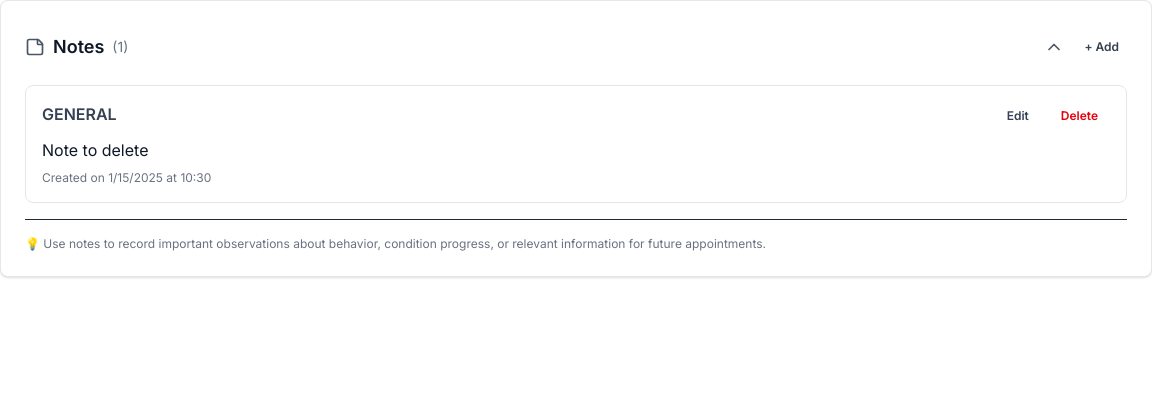
Test: PatientNotesCard › allows deleting a note with confirmation
Expected: the text "Note to delete" is shown, [42,140,148,160]
Note: Click delete button
Click the button "Delete".
click(1079, 116)  # box [1049,102,1110,130]
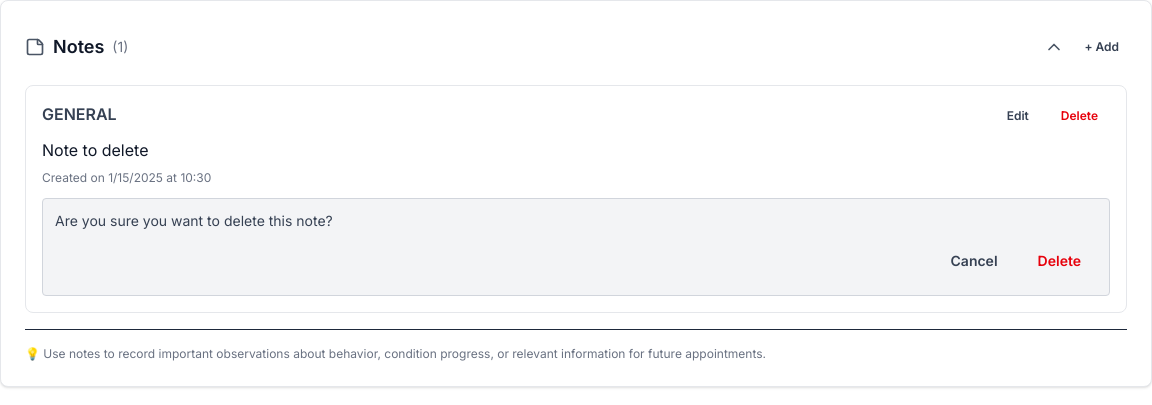
Expected: the text "Are you sure you want to delete this note?" is shown, [55,212,333,229]
Note: Confirm deletion (select the confirmation button, not the initial delete button)
Click the 2nd button "Delete".
click(1059, 261)  # box [1022,239,1097,283]
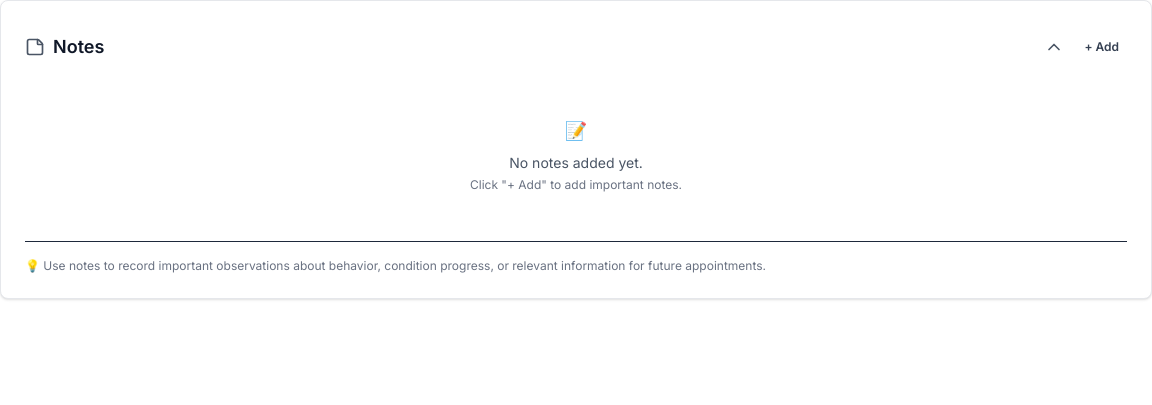
Expected: the text "Note to delete" is gone
